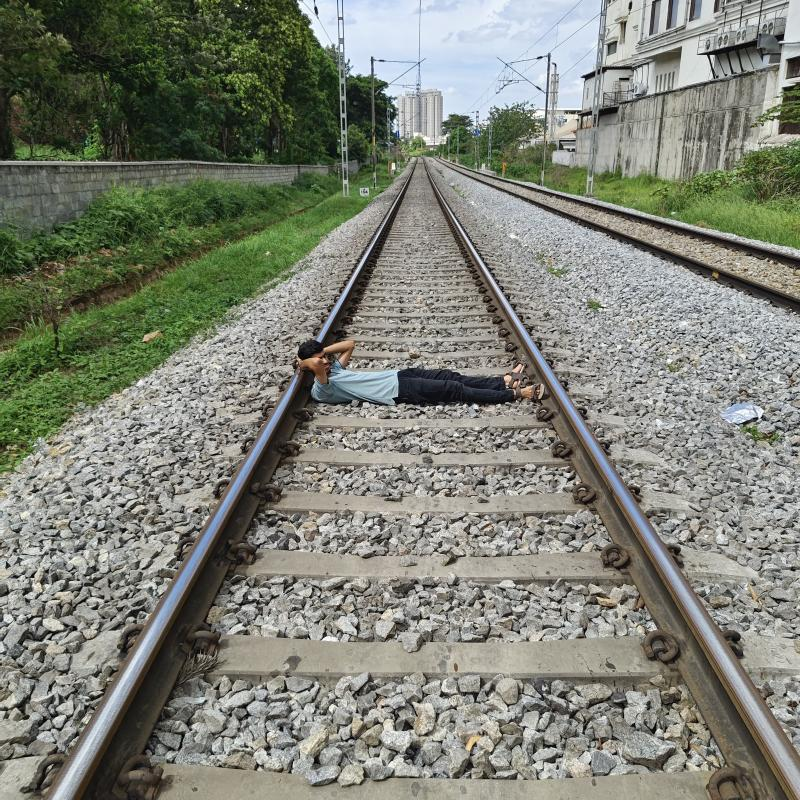sleeping: (290, 326, 549, 409)
